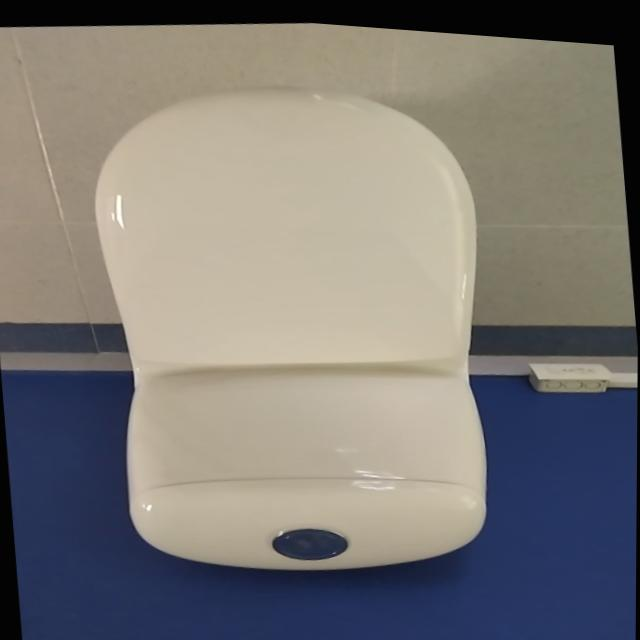toilet: (80, 55, 508, 594)
